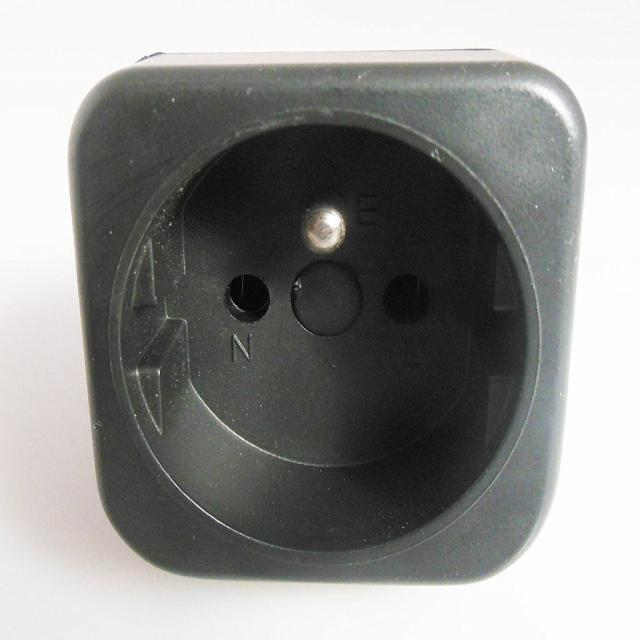typeb: (87, 70, 573, 573)
